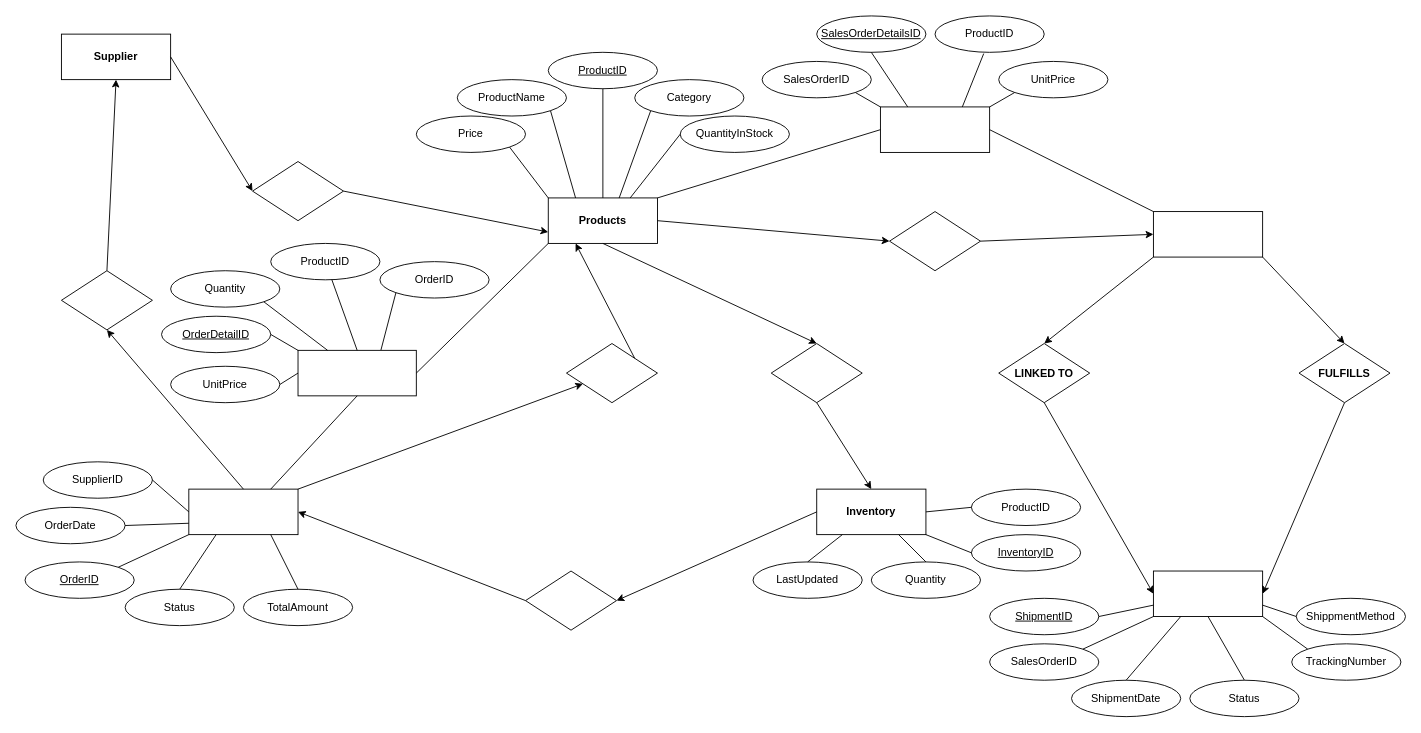
The diagram is 1421 pixels wide and 733 high, and some of its shapes have lost their labels. Here are the shapes that lost their labels. From the top down, the centre of each, then its label:
the point at 935,129: SalesOrderDetails
the point at 298,191: SUPPLIES
the point at 935,241: APPEARS IN
the point at 1208,234: SalesOrder
the point at 106,300: SENT TO
the point at 356,372: PurchaseOrderDetails
the point at 611,373: CONTAINS
the point at 816,373: TRACKED IN
the point at 243,511: PurchaseOrder
the point at 571,600: UPDATED BY
the point at 1208,593: Shipment
